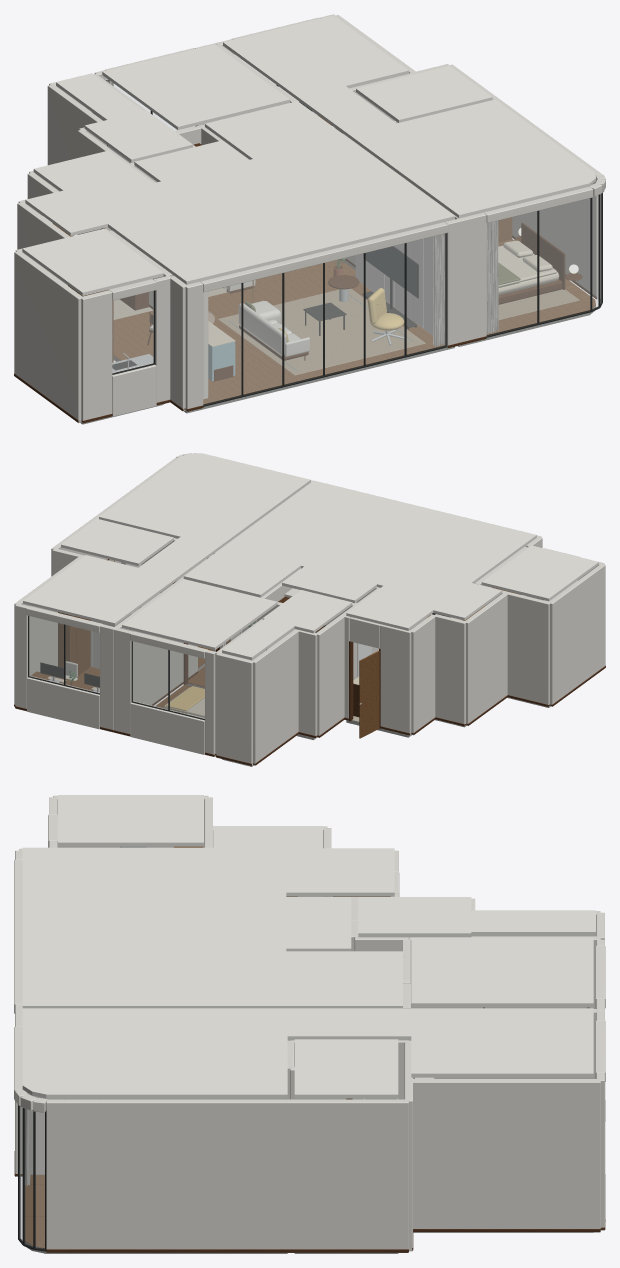
Rendered from home.glb.
3 renders of one model, top to bottom at view 1: azimuth 30°, elevation 25°; view 2: azimuth 150°, elevation 25°; view 3: azimuth 270°, elevation 25°, orthographic. The views are drawn at different scales.
Parts seen in each view (by area): view 1: living | window | b-wall-48, master | ceiling, living | ceiling, master | window | b-wall-0, dining | ceiling, guest | ceiling, study | ceiling, kitchen | wall | b-wall-11, living | decor | b-living-2dcc1b88f0, entry | ceiling, master | wall | b-wall-46, kitchen | ceiling (+32 smaller); view 2: master | ceiling, living | ceiling, dining | ceiling, guest | ceiling, study | ceiling, kitchen | wall | b-wall-11, guestbath | wall | b-wall-22, guest | window | b-wall-53, kitchen | wall | b-wall-12, entry | wall | b-wall-15, study | window | b-wall-5, entry | ceiling (+28 smaller); view 3: master | wall | b-wall-43, study | wall | b-wall-37, master | ceiling, living | ceiling, dining | ceiling, guest | ceiling, study | ceiling, guestbath | ceiling, entry | ceiling, kitchen | ceiling, craft | ceiling, bath | ceiling (+12 smaller).
Boxes of the visible parts, x1=… form: living | window | b-wall-48: x1=203, y1=233, x2=446, y2=406; master | ceiling: x1=298, y1=86, x2=595, y2=218; living | ceiling: x1=181, y1=136, x2=454, y2=259; master | window | b-wall-0: x1=486, y1=198, x2=592, y2=337; dining | ceiling: x1=78, y1=176, x2=289, y2=284; guest | ceiling: x1=102, y1=44, x2=289, y2=129; study | ceiling: x1=223, y1=15, x2=408, y2=100; kitchen | wall | b-wall-11: x1=14, y1=251, x2=82, y2=423; living | decor | b-living-2dcc1b88f0: x1=218, y1=288, x2=425, y2=375; entry | ceiling: x1=25, y1=150, x2=152, y2=235; master | wall | b-wall-46: x1=444, y1=212, x2=486, y2=348; kitchen | ceiling: x1=22, y1=229, x2=163, y2=295; master | ceiling: x1=99, y1=453, x2=310, y2=579; living | ceiling: x1=224, y1=480, x2=451, y2=580; dining | ceiling: x1=361, y1=514, x2=536, y2=600; guest | ceiling: x1=122, y1=579, x2=277, y2=650; study | ceiling: x1=23, y1=555, x2=177, y2=625; kitchen | wall | b-wall-11: x1=548, y1=564, x2=605, y2=706; guestbath | wall | b-wall-22: x1=252, y1=629, x2=298, y2=765; guest | window | b-wall-53: x1=131, y1=641, x2=204, y2=720; kitchen | wall | b-wall-12: x1=486, y1=590, x2=549, y2=707; entry | wall | b-wall-15: x1=465, y1=592, x2=507, y2=725; study | window | b-wall-5: x1=28, y1=615, x2=99, y2=694; entry | ceiling: x1=346, y1=583, x2=502, y2=630; master | wall | b-wall-43: x1=46, y1=1099, x2=408, y2=1252; study | wall | b-wall-37: x1=412, y1=1079, x2=600, y2=1232; master | ceiling: x1=22, y1=1008, x2=411, y2=1098; living | ceiling: x1=22, y1=908, x2=286, y2=1008; dining | ceiling: x1=22, y1=847, x2=286, y2=908; guest | ceiling: x1=411, y1=937, x2=593, y2=1007; study | ceiling: x1=411, y1=1008, x2=593, y2=1077; guestbath | ceiling: x1=358, y1=897, x2=595, y2=937; entry | ceiling: x1=213, y1=826, x2=394, y2=896; kitchen | ceiling: x1=58, y1=795, x2=203, y2=846; craft | ceiling: x1=286, y1=951, x2=402, y2=1008; bath | ceiling: x1=294, y1=1039, x2=398, y2=1098.
Size of the model in its own units: 13.17 by 3.18 by 10.7.
Materials: 136 (10 with a texture image).
